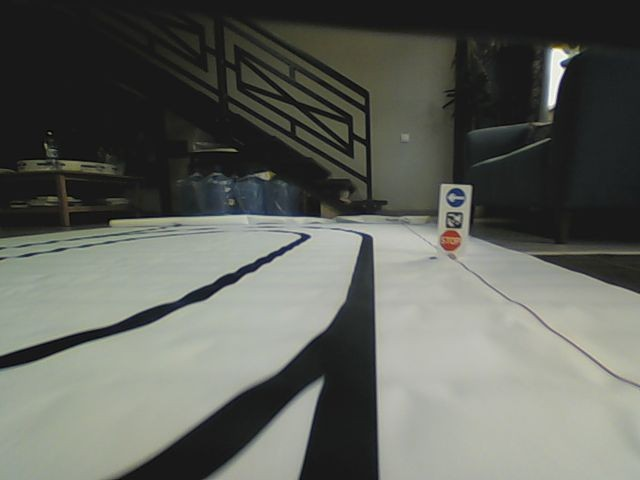Stop: (438, 229, 464, 252)
